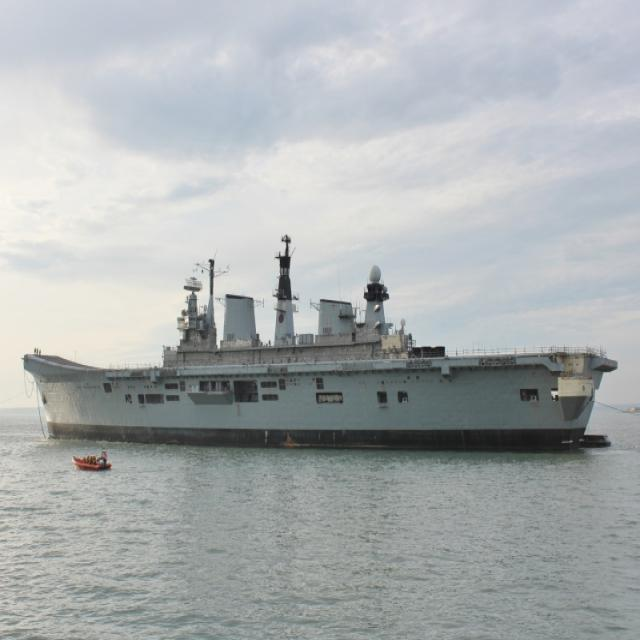Portanaves: (12, 250, 623, 444)
